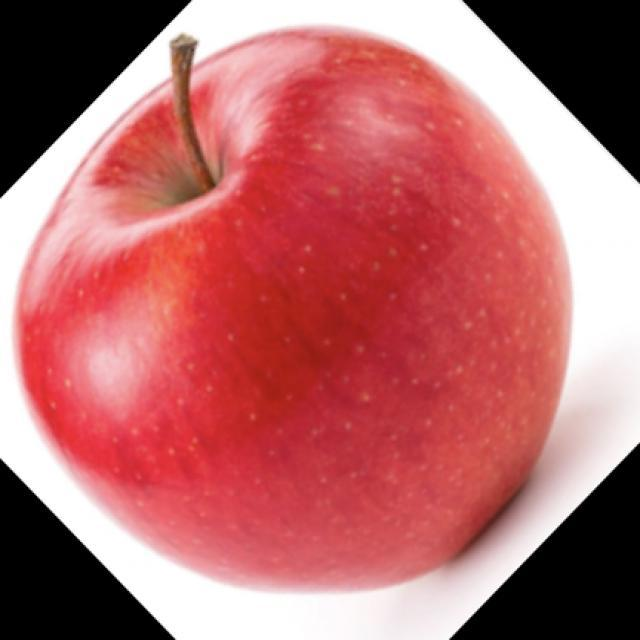Fresh Apple: (23, 22, 565, 588)
